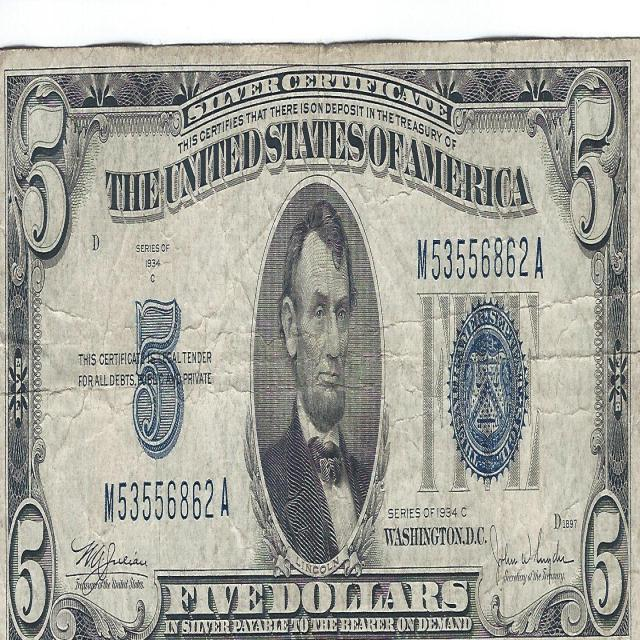5-Front: (1, 43, 638, 640)
